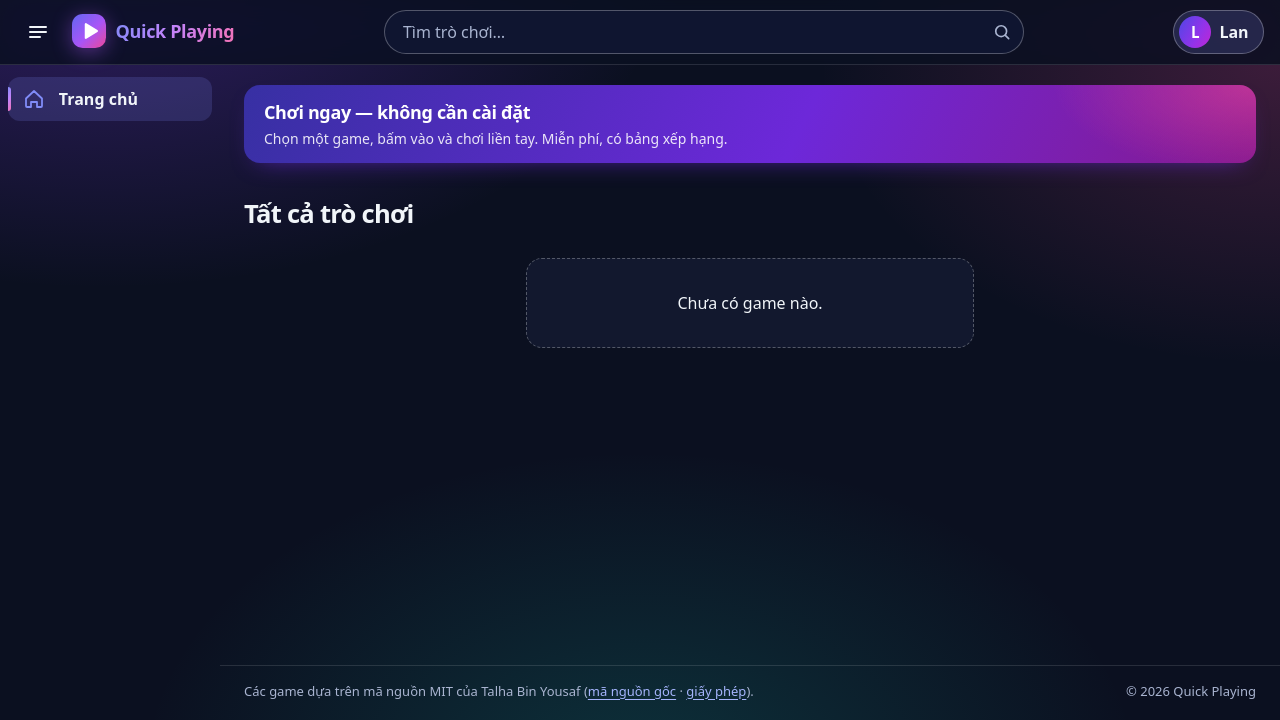
Test: AC27 header user menu › authenticated: button shows the name; menu has profile, history, logout
The width and height of the screenshot is (1280, 720).
Step 1. Click the button with test id "user-menu-button" → (1218, 32), box [1173, 10, 1264, 54]
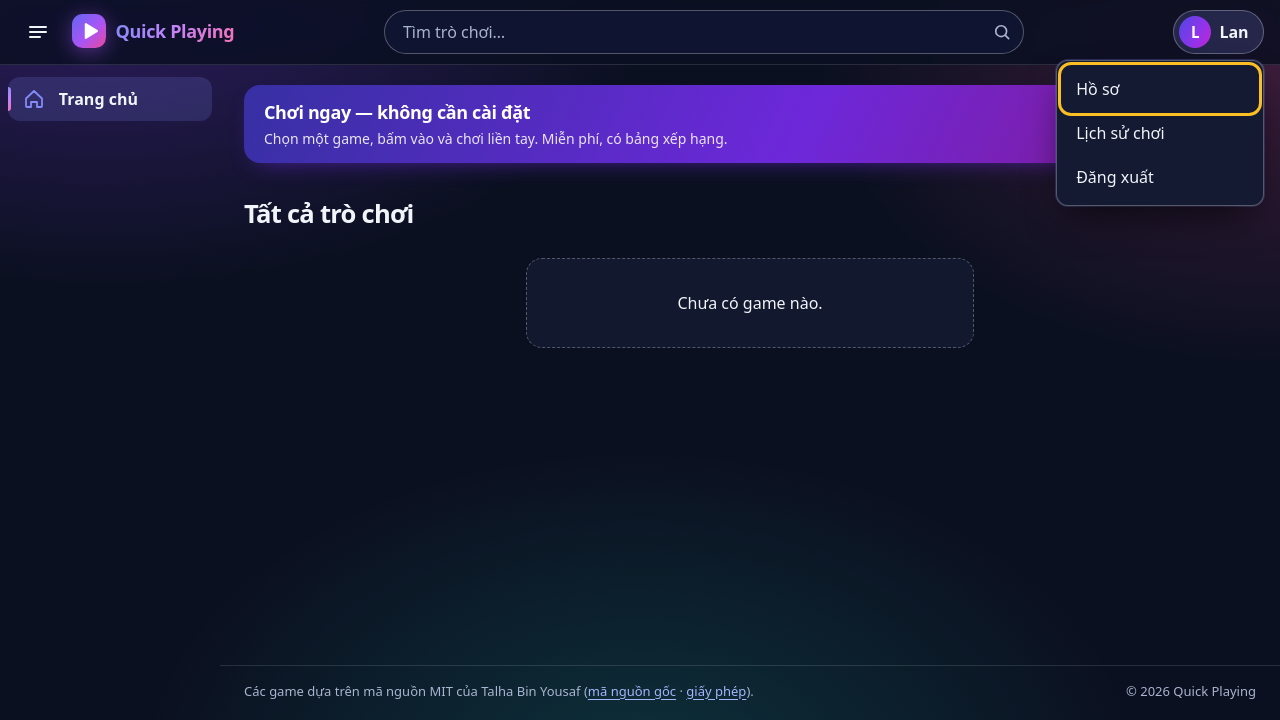
Expected: the menu item with test id "user-menu-logout" is shown, [1063, 155, 1257, 199]
